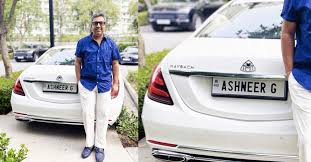number_plate: (210, 74, 288, 101), (42, 81, 78, 96)
